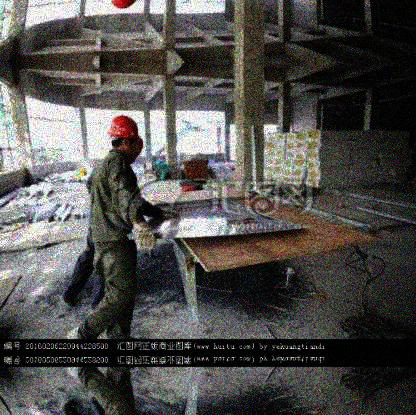helmet: (110, 115, 137, 160), (126, 136, 145, 165)
